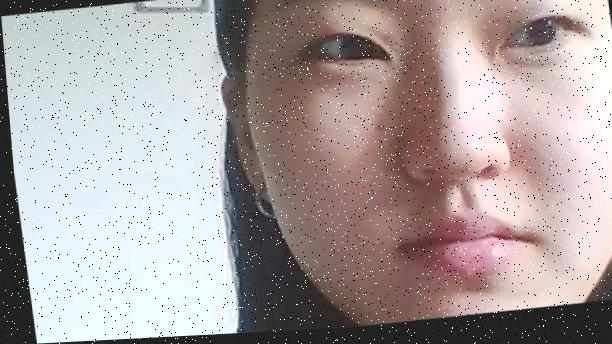eye: (340, 34, 375, 65), (528, 21, 560, 53)
iris: (317, 32, 386, 66), (497, 23, 562, 55)
